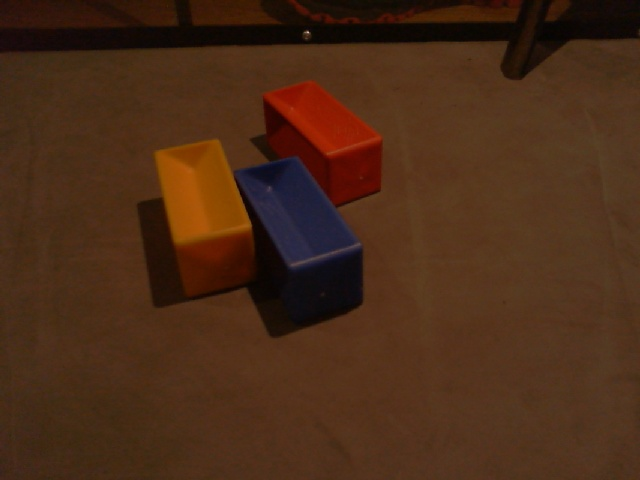BlueSample: (230, 155, 363, 326)
RedSample: (255, 77, 385, 204)
YellowSample: (146, 138, 257, 291)
